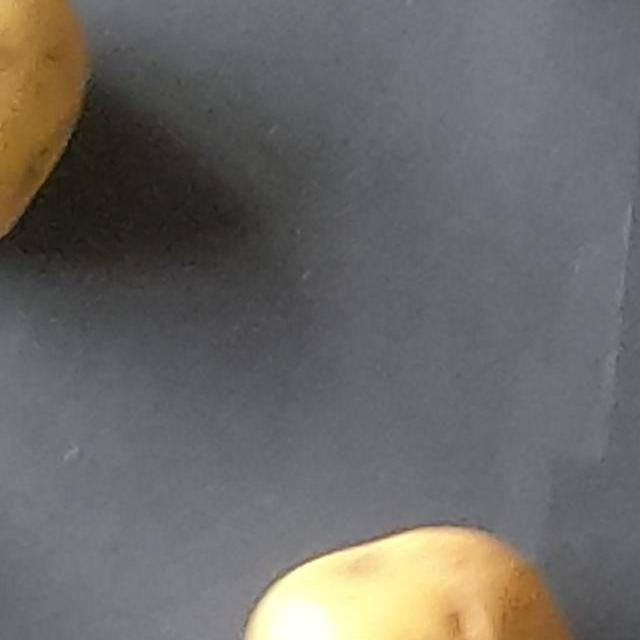potato: (0, 0, 163, 298)
